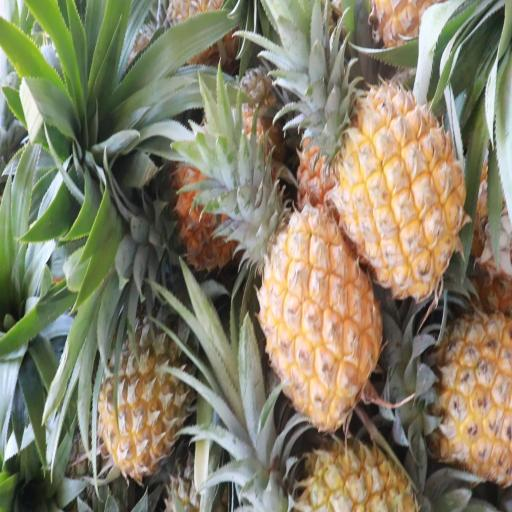Pineapple - v8 v1: (319, 83, 471, 298), (250, 212, 384, 432), (386, 315, 512, 477), (100, 287, 190, 476)
